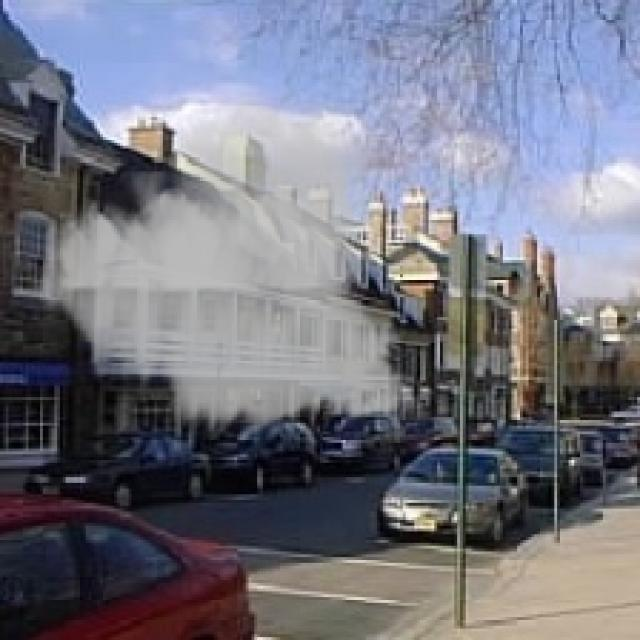Smoke: (22, 91, 428, 443)
